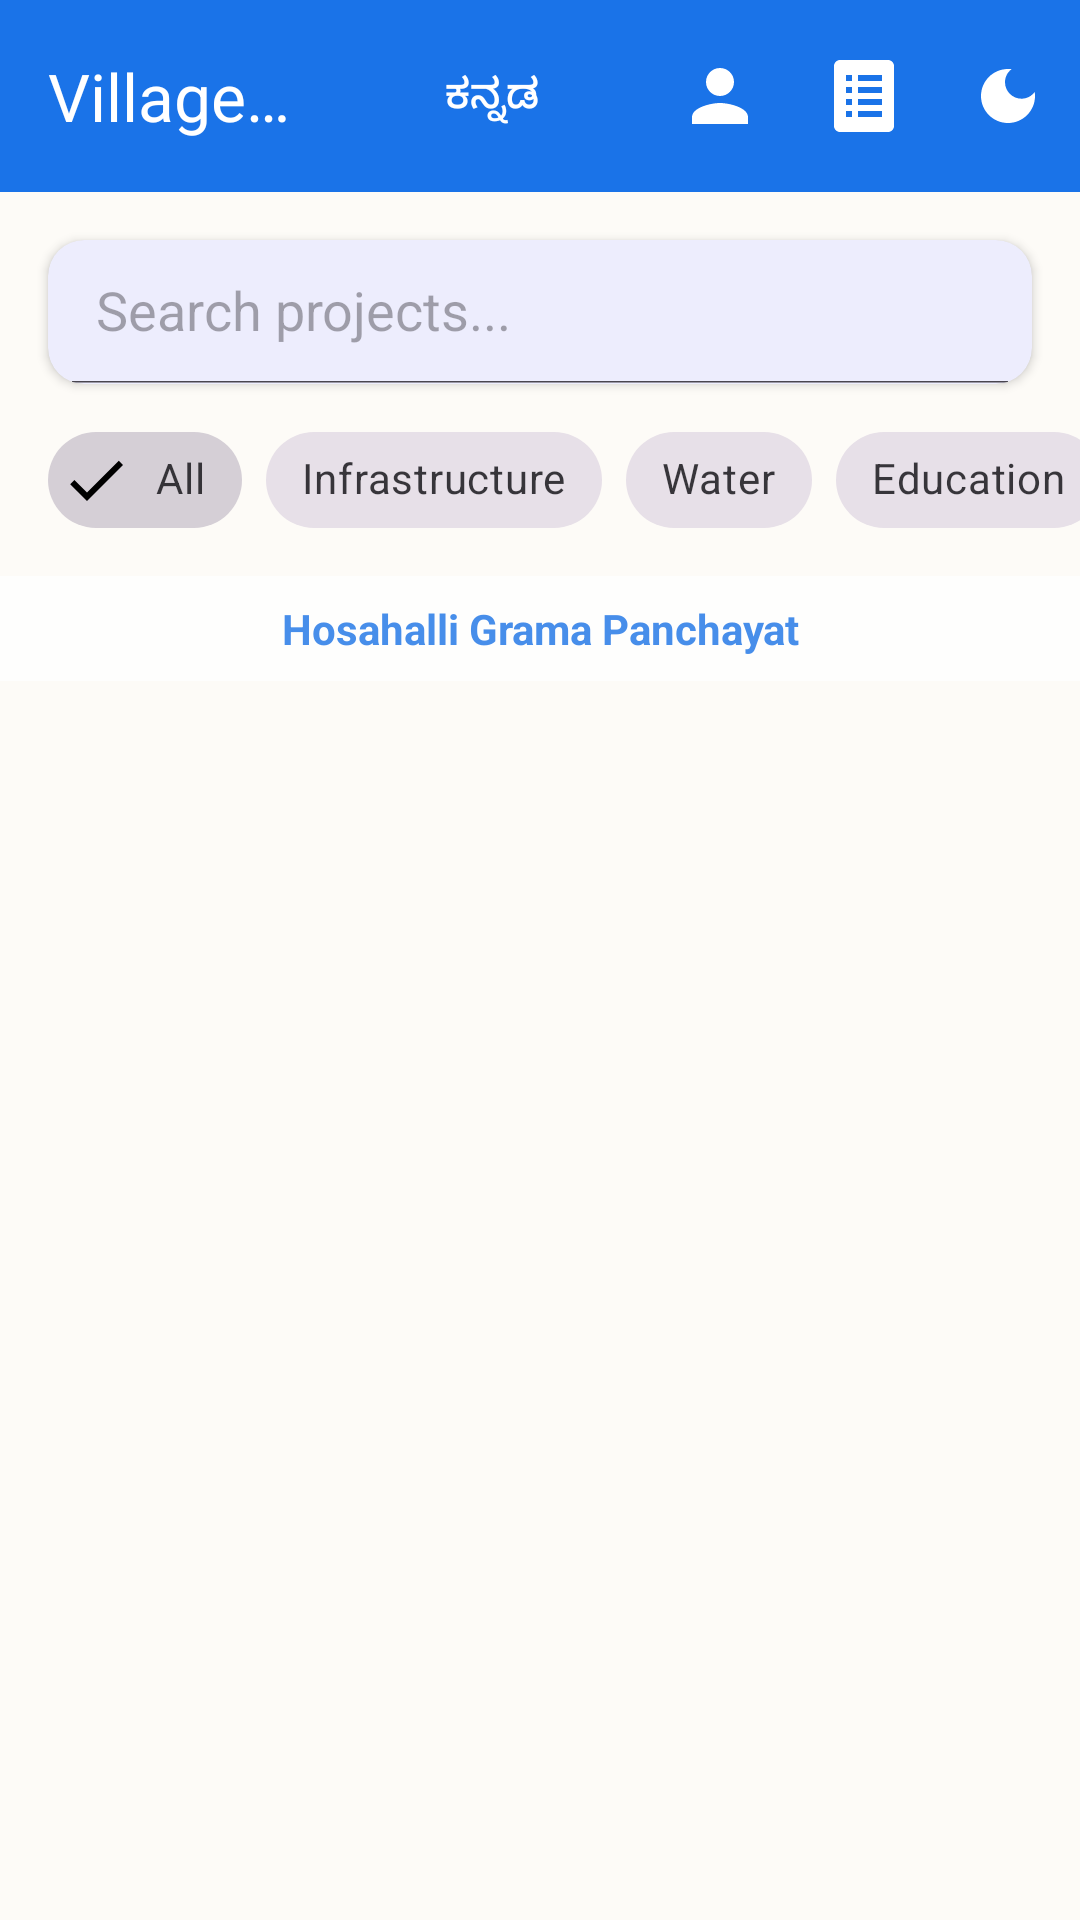

Icon bounding boxes for this 1080 x 1920 phone screenshot, format (x1, y1, x2, y2):
Go to user profile: (692, 68, 748, 124)
Toggle dark or light mode: (981, 69, 1035, 123)
